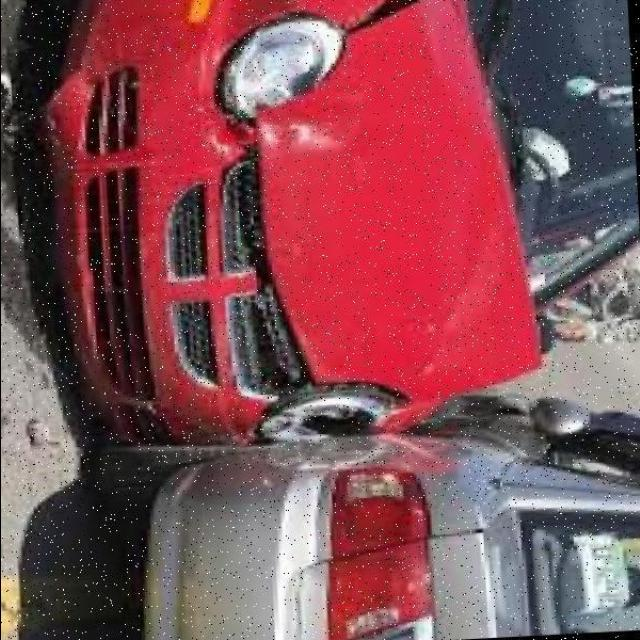accident: (79, 0, 640, 615)
